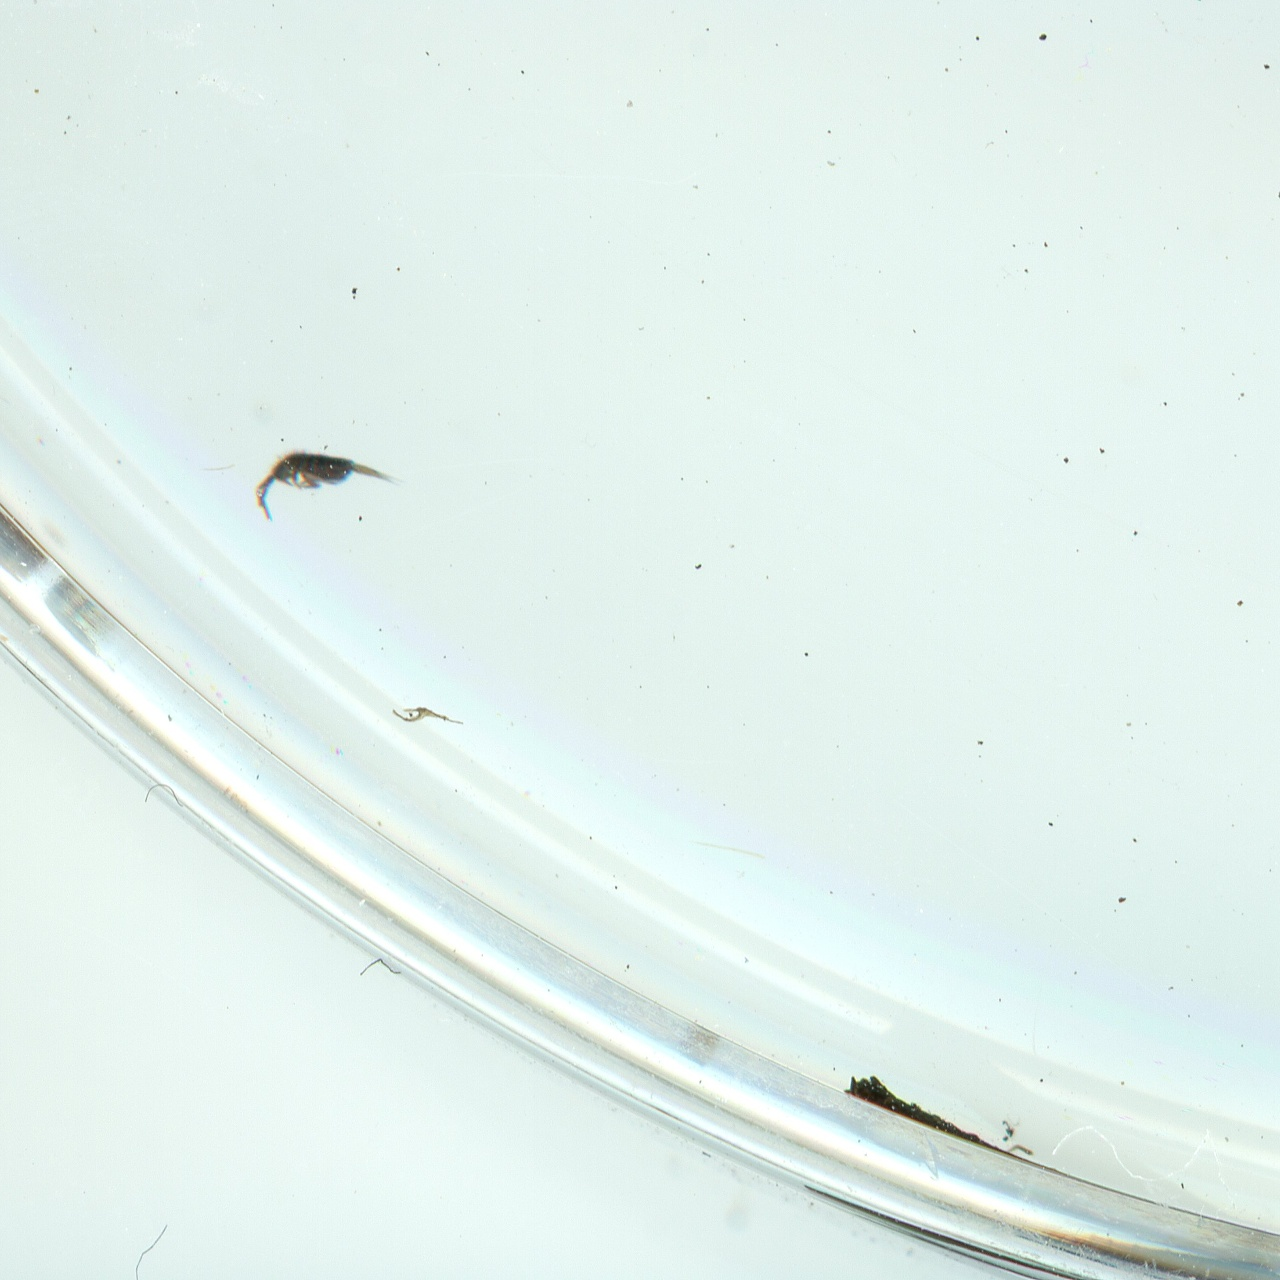arthropod: (253, 449, 400, 519)
